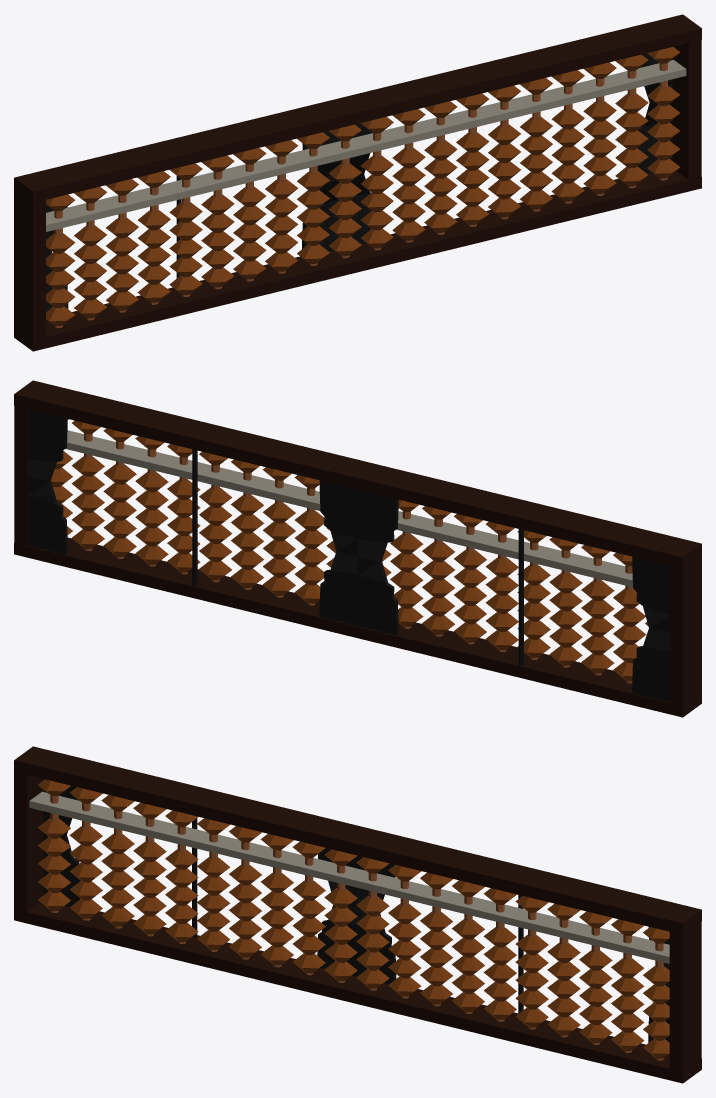
Rendered from abacus.fbx.
3 renders of one model, top to bottom at view 1: azimuth 30°, elevation 25°; view 2: azimuth 150°, elevation 25°; view 3: azimuth 330°, elevation 25°, orthographic.
Visible parts, largest first — view 1: frame_unido.002; view 2: frame_unido.002; view 3: frame_unido.002.
Boxes of the visible parts, x1,y1,x2,y2 form: frame_unido.002: [14, 14, 701, 351]; frame_unido.002: [14, 380, 701, 717]; frame_unido.002: [14, 746, 701, 1083].
Bounding box in the file's own units: 30.5 × 6.98 × 1.52.
